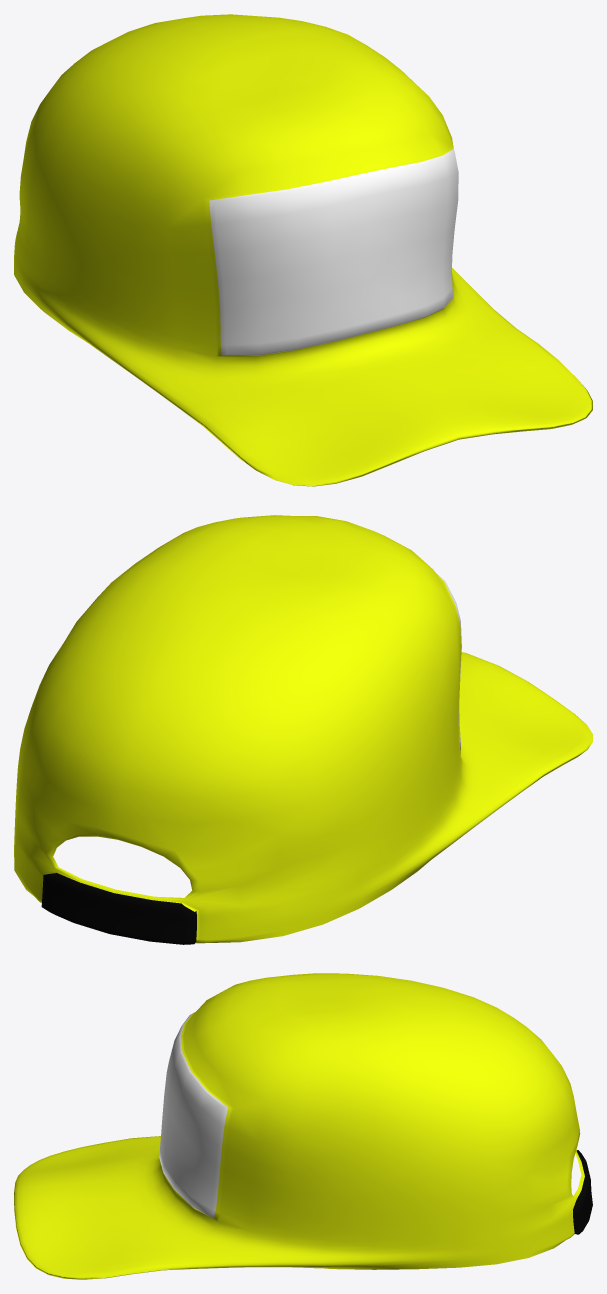
Rendered from outfit_trucker_yellow.glb.
3 views of the same model, one above another, from view 1: azimuth 30°, elevation 25°; view 2: azimuth 150°, elevation 25°; view 3: azimuth 270°, elevation 25° (orthographic). The views are drawn at different scales.
Visible parts, largest first — view 1: outfit_trucker_yellow; view 2: outfit_trucker_yellow; view 3: outfit_trucker_yellow.
Part boxes in pixels (x1,y1,x2,y2): outfit_trucker_yellow: [14, 14, 592, 486]; outfit_trucker_yellow: [14, 515, 592, 944]; outfit_trucker_yellow: [14, 973, 592, 1279].
Size of the model in its own units: 0.4152 by 0.3 by 0.7216.
